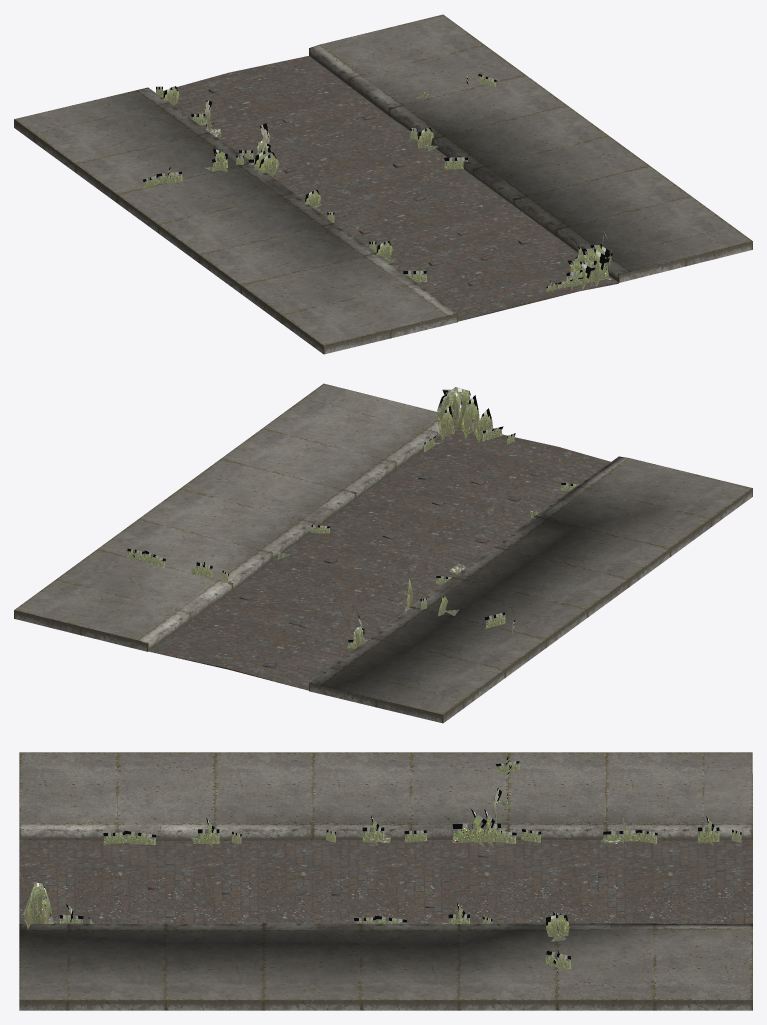
The model's file is road_12x15.glb.
3 renders of one model, top to bottom at view 1: azimuth 30°, elevation 25°; view 2: azimuth 150°, elevation 25°; view 3: azimuth 270°, elevation 25°, orthographic. The views are drawn at different scales.
Parts seen in each view (by area): view 1: road_12x15_LOD0, cracks_grass_f_temperate (×3), cracks_grass_e_temperate, cracks_grass_i_temperate; view 2: road_12x15_LOD0, cracks_grass_i_temperate, cracks_grass_f_temperate, cracks_grass_e_temperate; view 3: road_12x15_LOD0, cracks_grass_e_temperate, cracks_grass_f_temperate (×3), cracks_grass_i_temperate.
Part boxes in pixels (x1=…): road_12x15_LOD0: x1=14, y1=14, x2=752, y2=354; cracks_grass_f_temperate (×3): x1=143, y1=127, x2=467, y2=282; cracks_grass_e_temperate: x1=156, y1=86, x2=334, y2=222; cracks_grass_i_temperate: x1=546, y1=231, x2=612, y2=291; road_12x15_LOD0: x1=14, y1=383, x2=752, y2=723; cracks_grass_i_temperate: x1=424, y1=387, x2=515, y2=452; cracks_grass_f_temperate: x1=127, y1=548, x2=228, y2=582; cracks_grass_e_temperate: x1=347, y1=563, x2=466, y2=648; road_12x15_LOD0: x1=19, y1=752, x2=752, y2=1010; cracks_grass_e_temperate: x1=326, y1=787, x2=741, y2=846; cracks_grass_f_temperate (×3): x1=103, y1=818, x2=570, y2=975; cracks_grass_i_temperate: x1=23, y1=882, x2=93, y2=929.
Bounding box in the file's own units: 12 × 1.28 × 15.11.
Materials: 3 (3 with a texture image).
